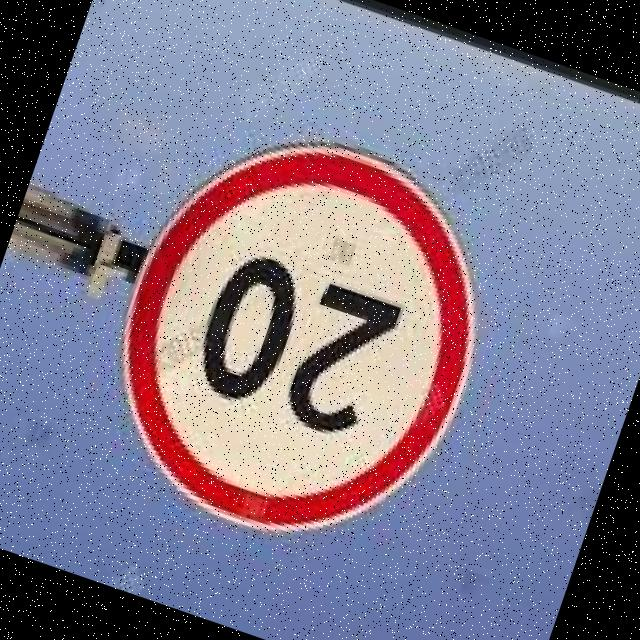speed_limit_20: (53, 82, 534, 615)
